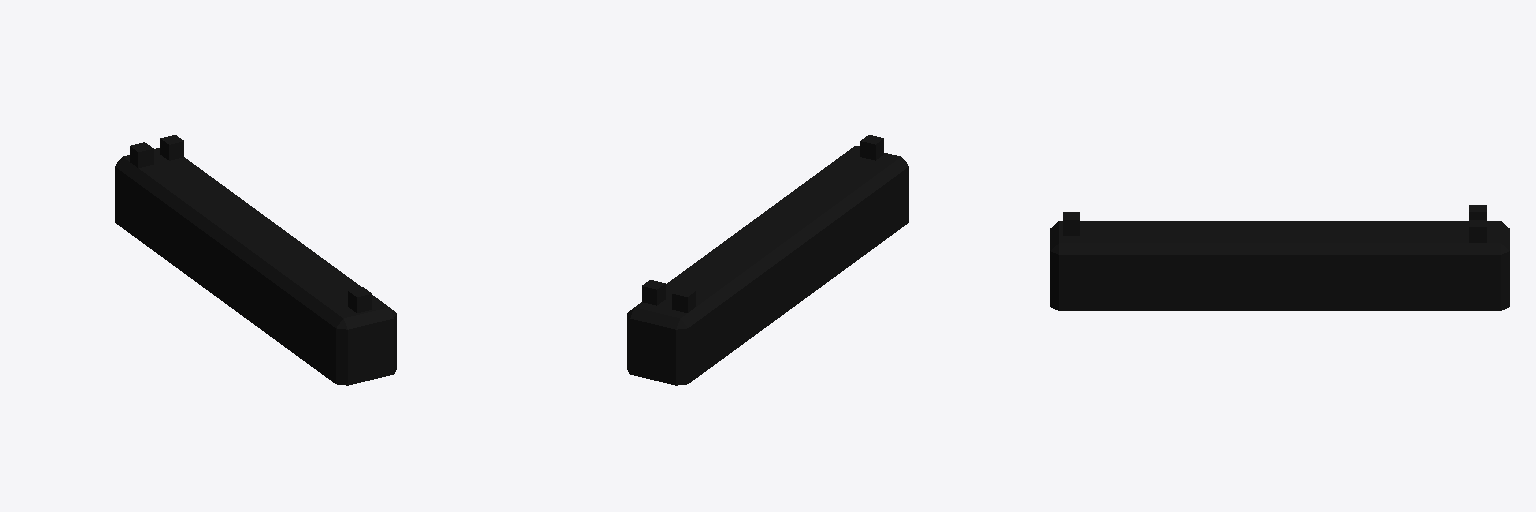
Rendered from pistol_slide.obj.
The picture shows the model from 3 angles: view 1: azimuth 30°, elevation 25°; view 2: azimuth 150°, elevation 25°; view 3: azimuth 270°, elevation 25°; orthographic projection.
Parts seen in each view (by area): view 1: Cube.001; view 2: Cube.001; view 3: Cube.001.
Boxes of the visible parts, x1=… form: Cube.001: x1=115, y1=135, x2=396, y2=385; Cube.001: x1=627, y1=135, x2=908, y2=385; Cube.001: x1=1050, y1=205, x2=1509, y2=310.
Size of the model in its own units: 0.0625 by 0.0781 by 0.4062.